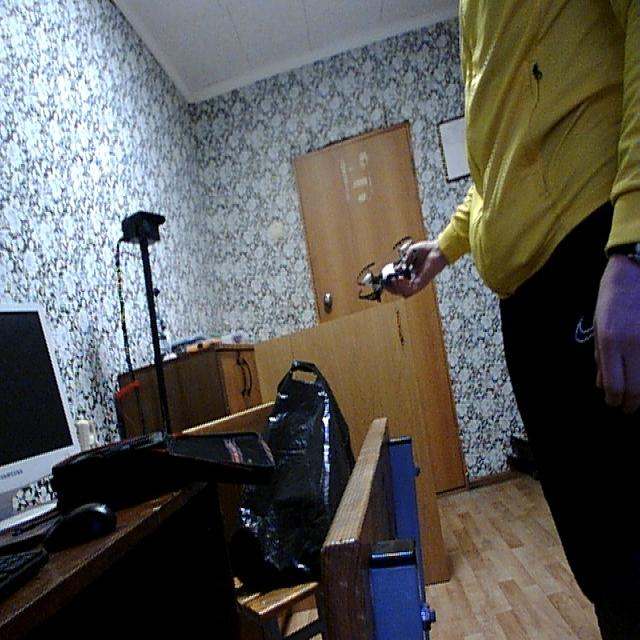drone: (344, 229, 428, 309)
